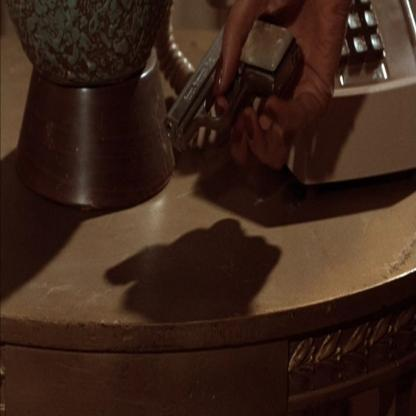gun: (154, 28, 316, 153)
